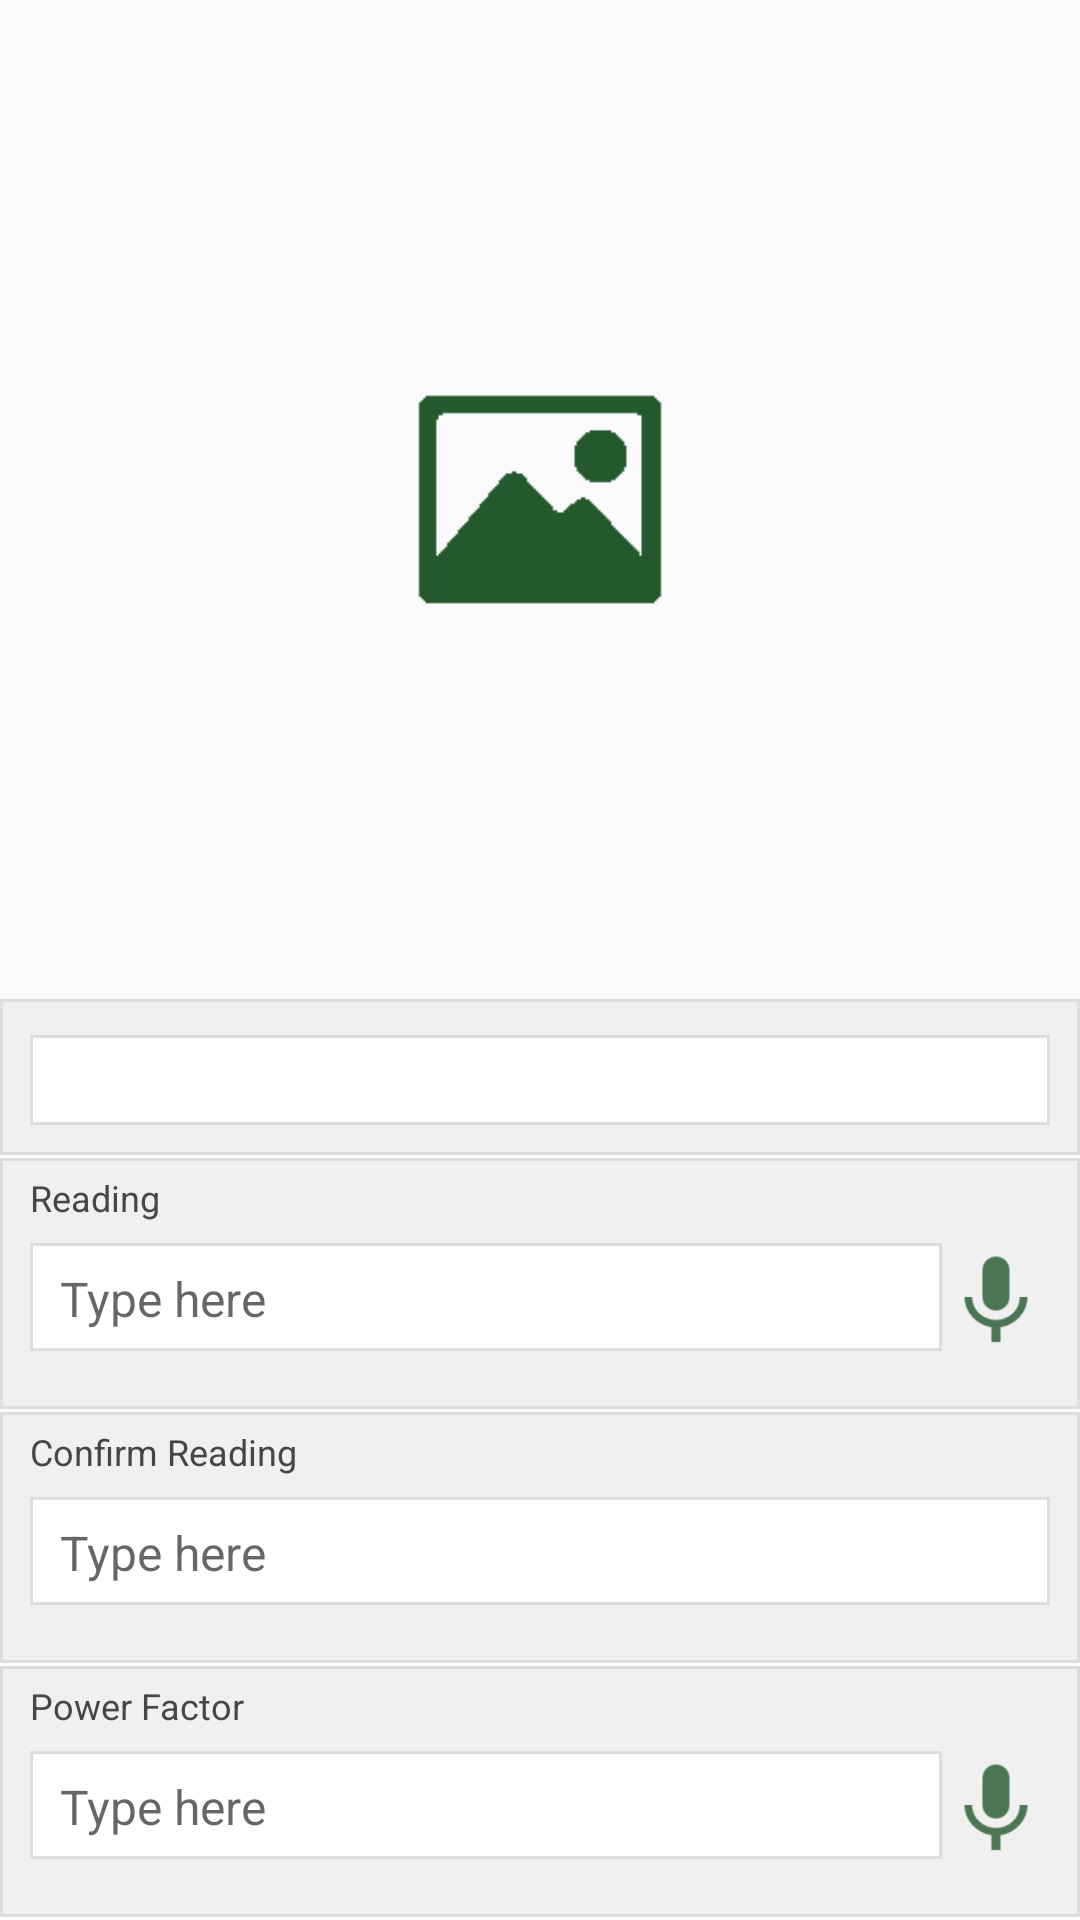

Point at icon controls on the screen. Image size 1080px x 1920px, points as (x=x, y=y).
voice: (x=996, y=1299), (x=996, y=1807)
